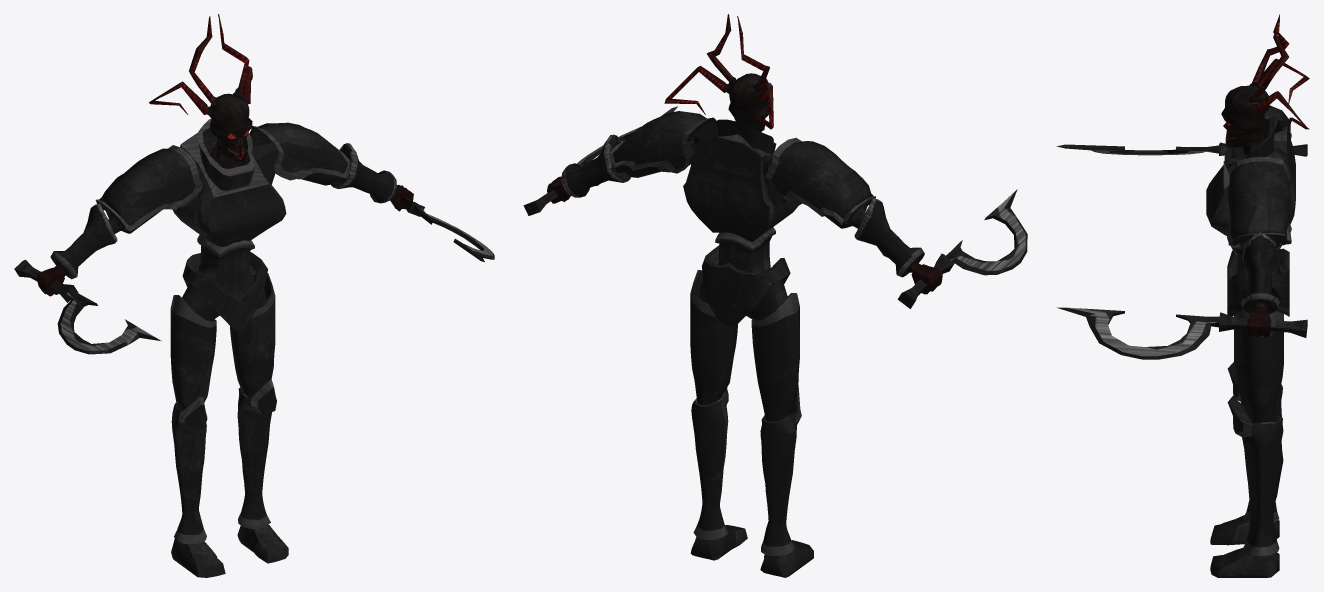
File: badguy.DAE
The picture shows the model from 3 angles, left to right: view 1: azimuth 30°, elevation 25°; view 2: azimuth 150°, elevation 25°; view 3: azimuth 270°, elevation 25°; orthographic projection. The views are drawn at different scales.
Visible parts, largest first — view 1: weapon; view 2: weapon; view 3: weapon.
Boxes of the visible parts, bbox=[...] form: weapon: bbox=[14, 14, 494, 577]; weapon: bbox=[523, 14, 1027, 577]; weapon: bbox=[1056, 14, 1309, 577].
Bounding box in the file's own units: 104 × 53.98 × 127.
1 material, 1 textured.
